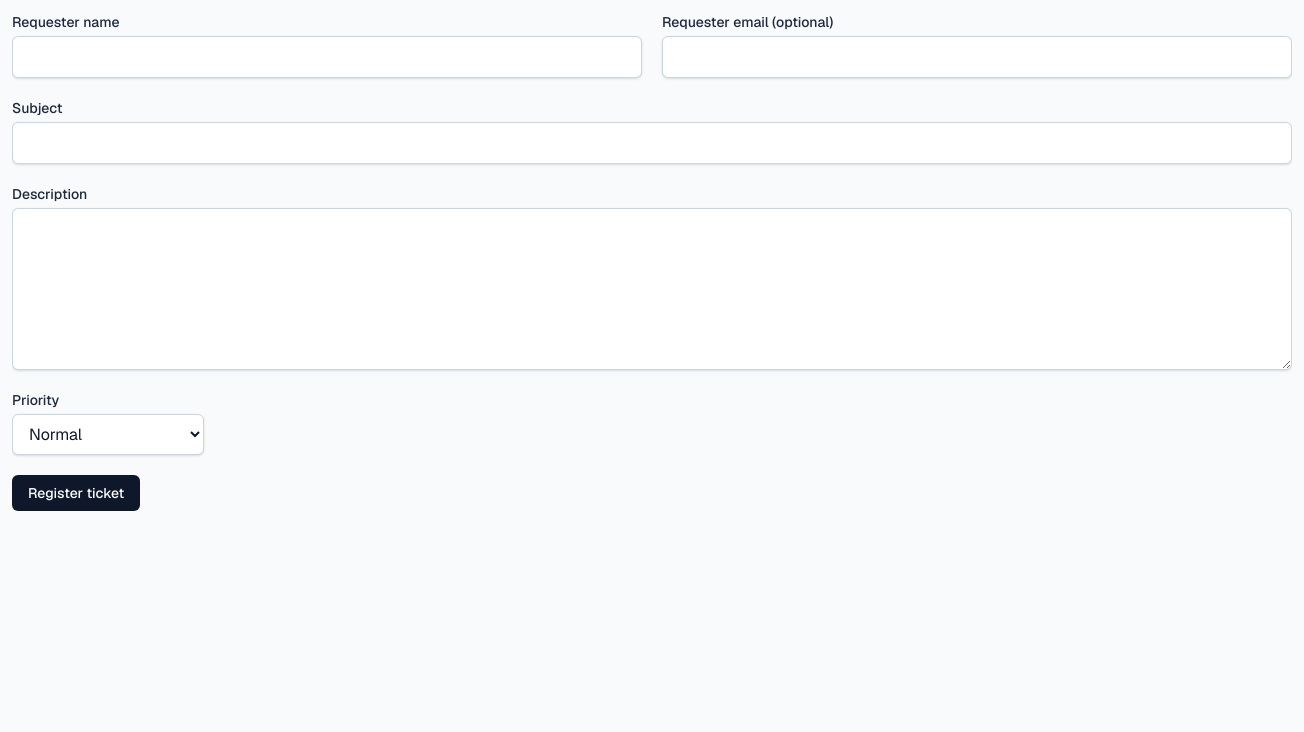
TicketForm › shows the errors returned by the action and keeps the entered values
Step 1. Type "Hi" into the field labelled "Subject" → (652, 143), box top-left (12, 122), bottom-right (1292, 164)
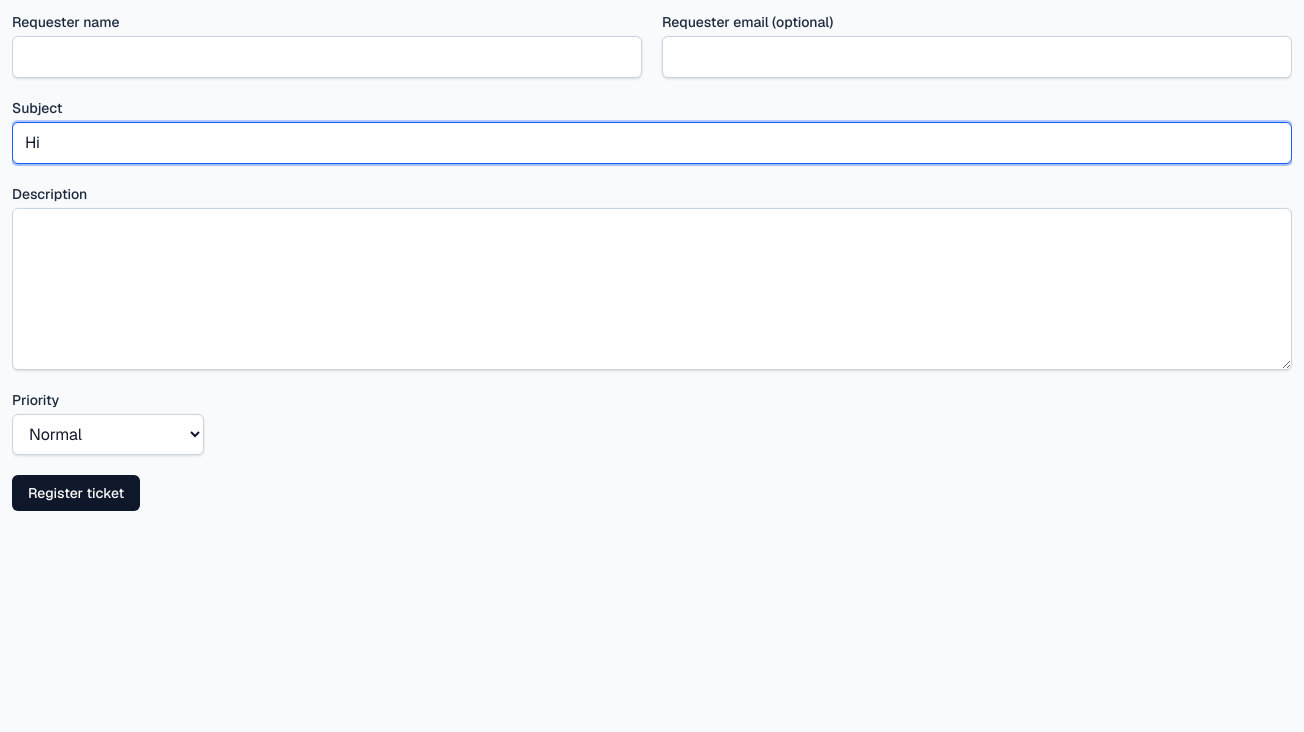
Step 2. Type "Something broke" into the text box labelled "Description" → (652, 289), box top-left (12, 208), bottom-right (1292, 370)
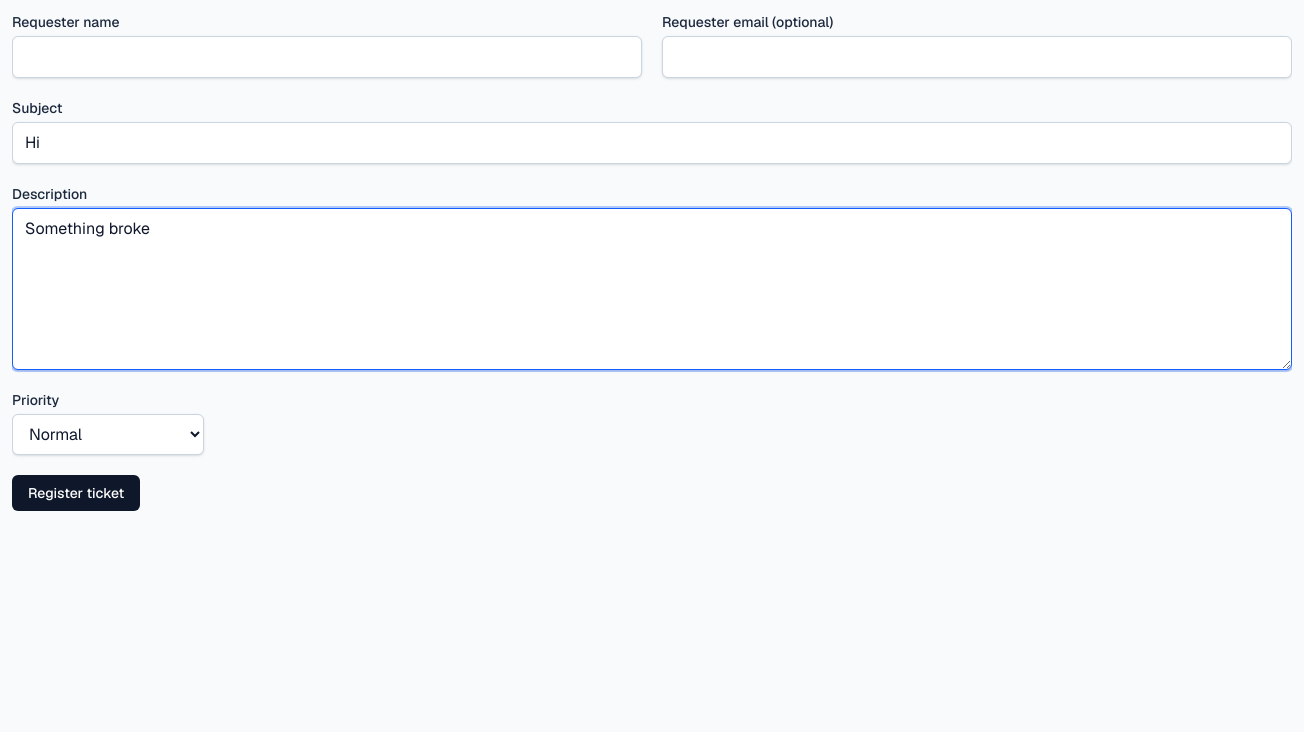
Step 3. Click the button "Register ticket" → (76, 493), box top-left (12, 475), bottom-right (140, 511)
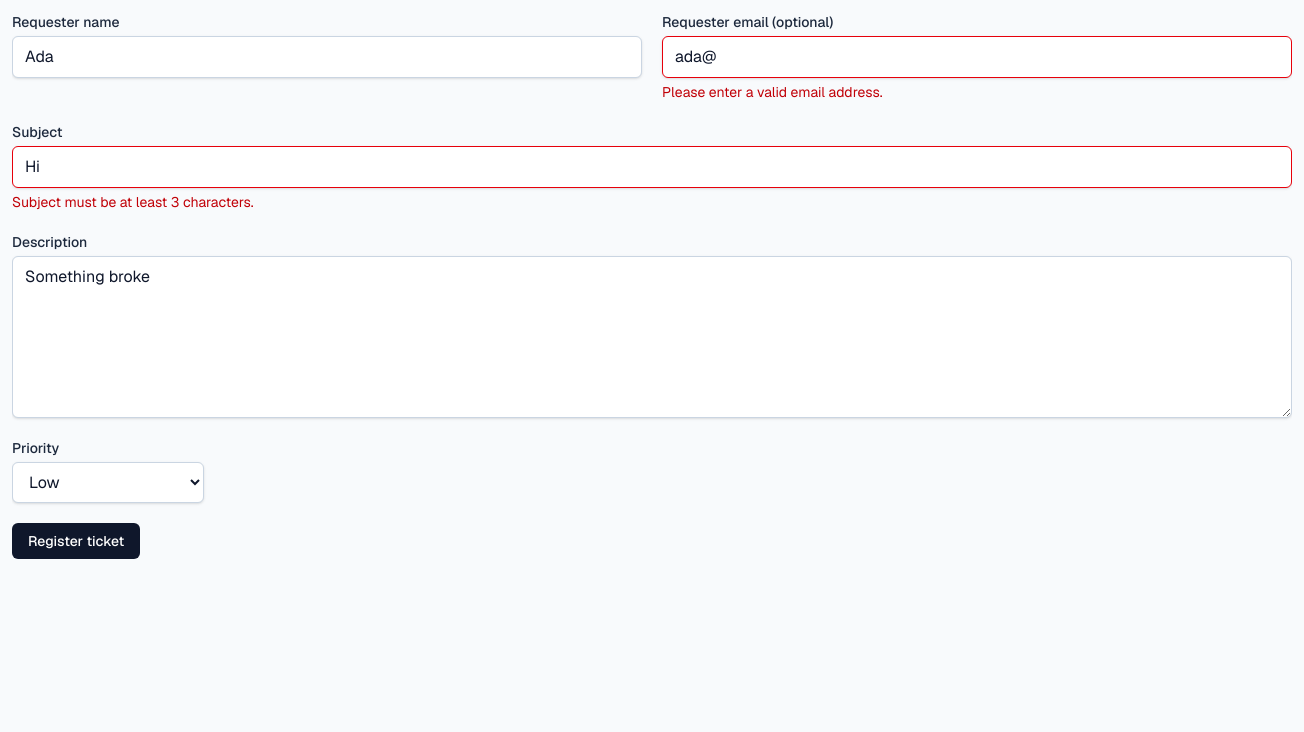
Now the text "Subject must be at least 3 characters." is shown, box top-left (12, 193), bottom-right (254, 211)
Now the text "Please enter a valid email address." is shown, box top-left (662, 83), bottom-right (882, 101)
Now the field labelled "Requester email (optional)" holds "ada@", box top-left (662, 36), bottom-right (1292, 78)
